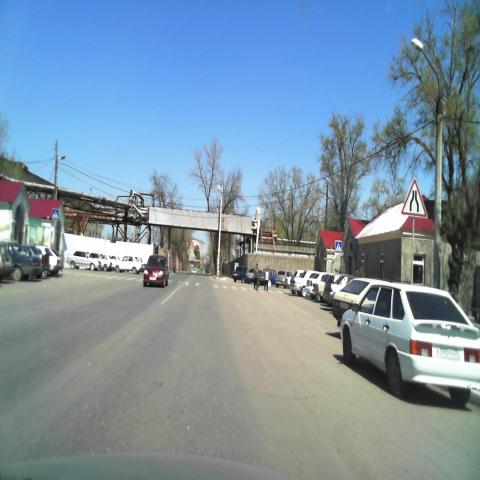1_20: (402, 175, 429, 220)
5_19_1: (334, 239, 342, 252), (52, 209, 58, 219)
